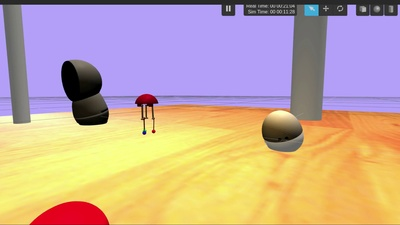mira_robot: (262, 109, 304, 151)
